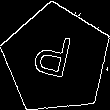P_S: (34, 31, 80, 88)
